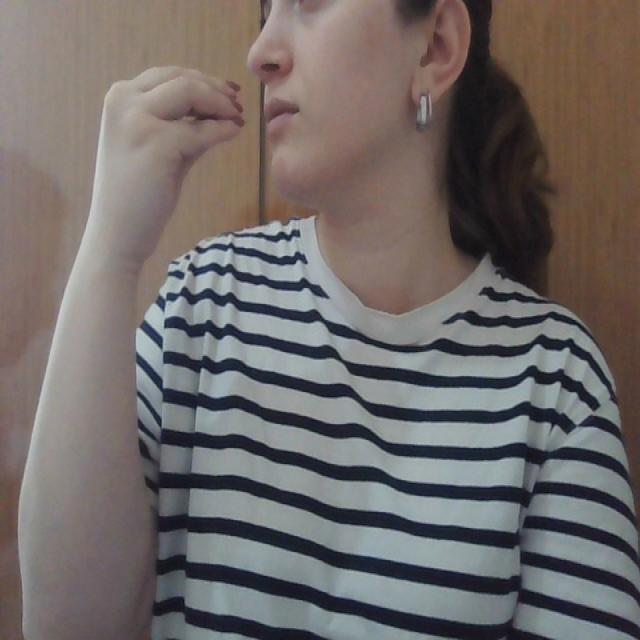Yemek: (102, 61, 304, 144)
